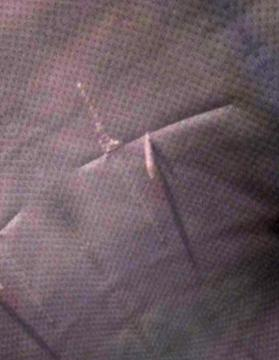snag: (127, 122, 170, 186)
